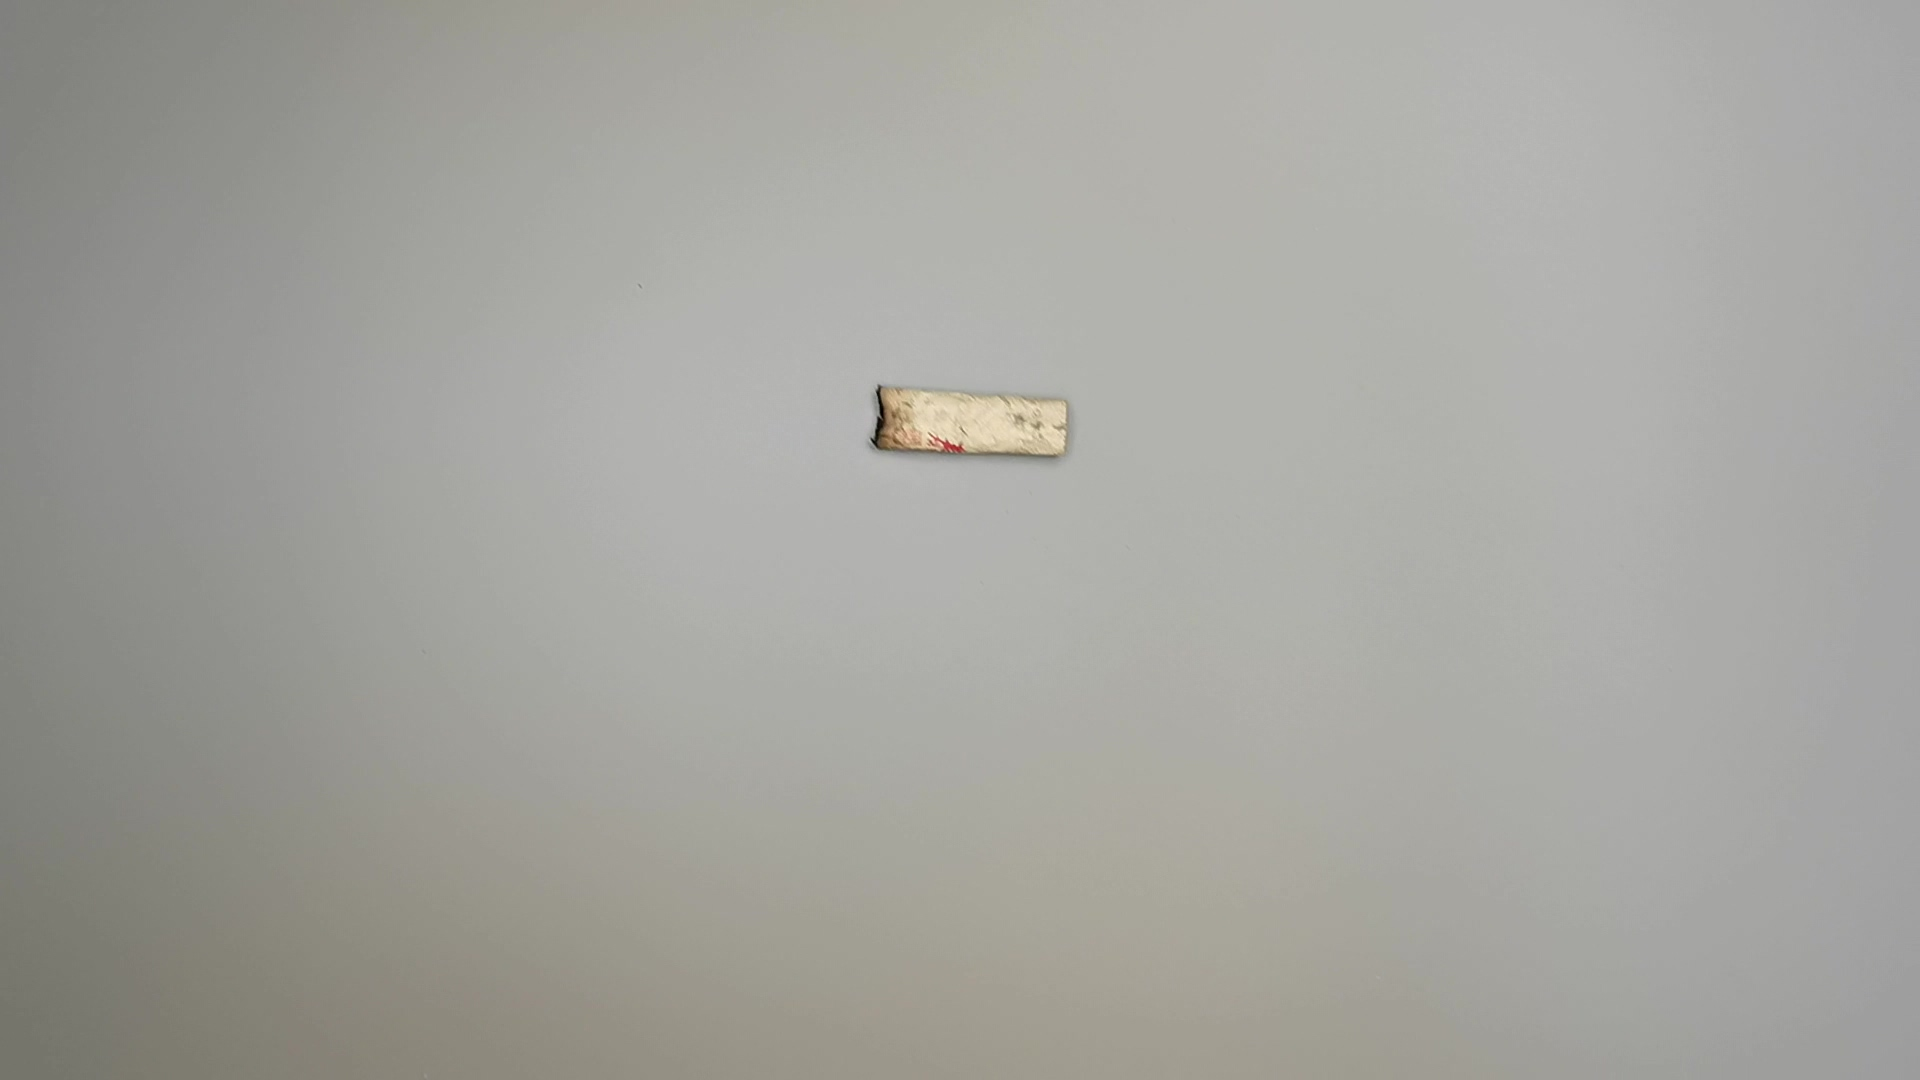cigarette: (862, 376, 1085, 465)
